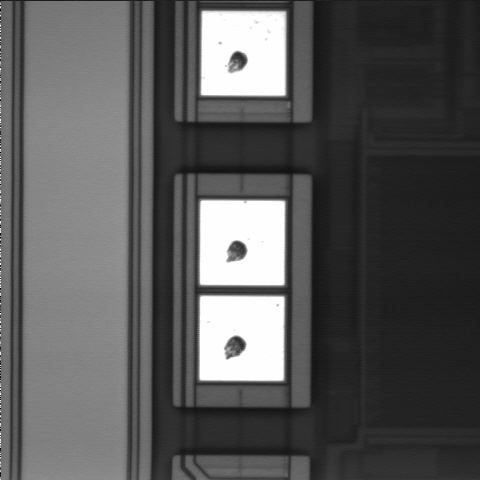pad: (201, 11, 286, 96), (200, 200, 285, 285), (200, 296, 284, 381)
